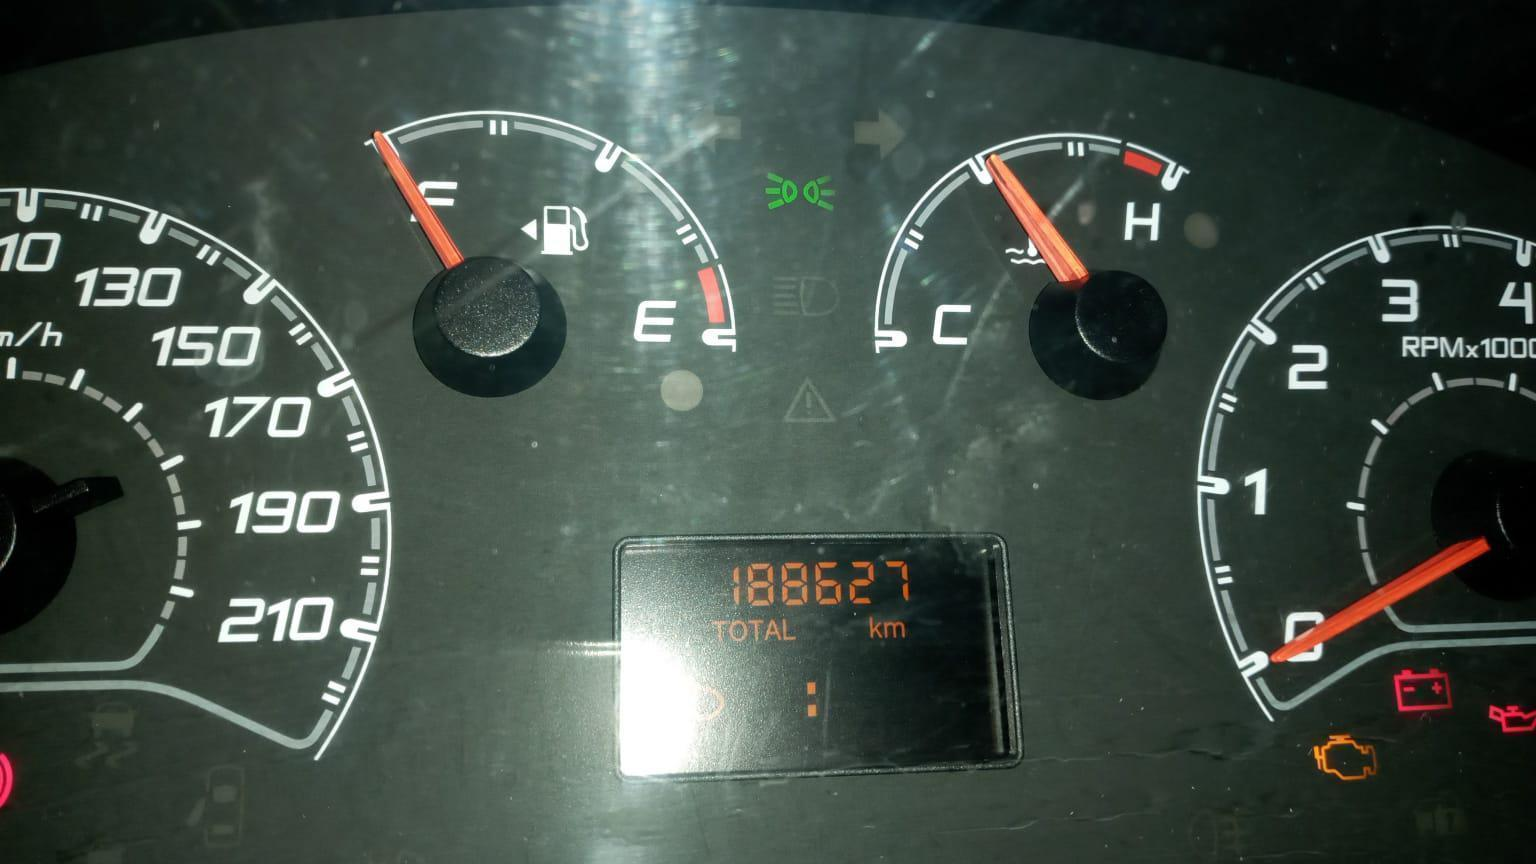1: (731, 565, 741, 606)
2: (847, 560, 875, 604)
6: (813, 560, 843, 604)
7: (884, 559, 910, 602)
8: (779, 561, 809, 606), (746, 562, 775, 607)
X: (805, 681, 818, 718), (728, 619, 748, 642), (884, 620, 906, 639), (747, 619, 764, 642), (711, 619, 728, 642), (781, 617, 796, 641), (868, 614, 883, 639), (765, 618, 781, 641)
odometer: (608, 527, 1028, 789)
